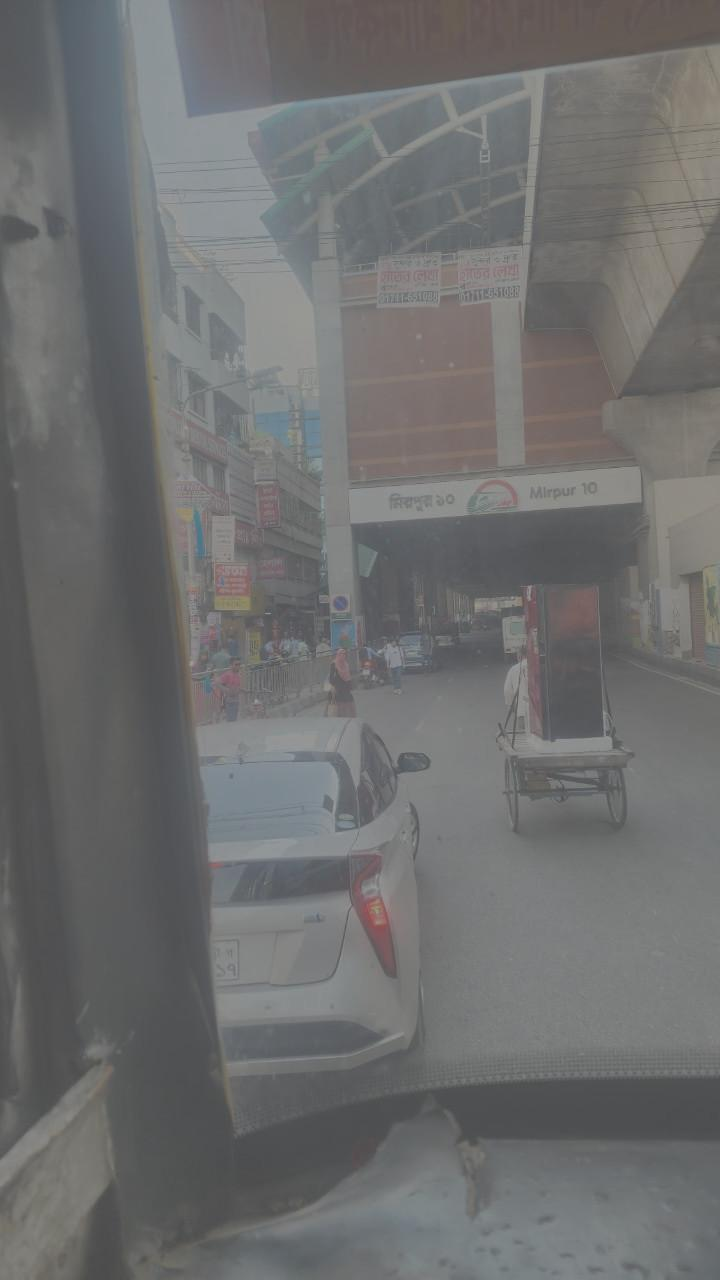No Parking: (331, 593, 351, 616)
